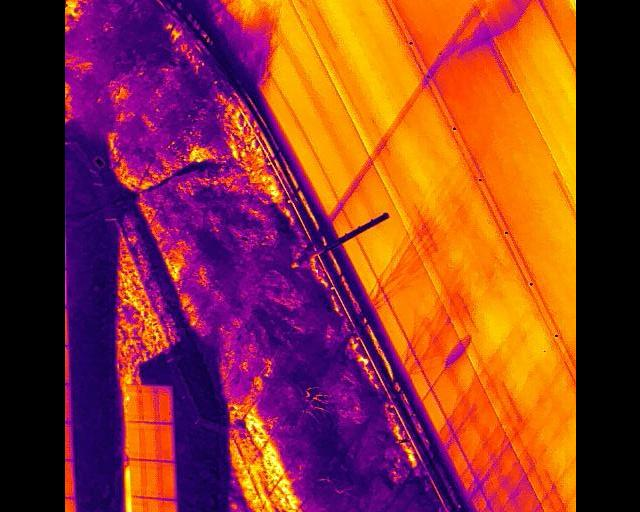Cell: (126, 387, 138, 422), (143, 498, 159, 512), (131, 495, 144, 512)
No-Anomaly: (154, 422, 173, 462), (153, 387, 171, 423), (141, 460, 158, 498), (159, 462, 176, 499), (139, 421, 155, 460), (138, 385, 154, 422), (126, 423, 140, 459), (129, 460, 142, 497), (159, 499, 177, 512)
